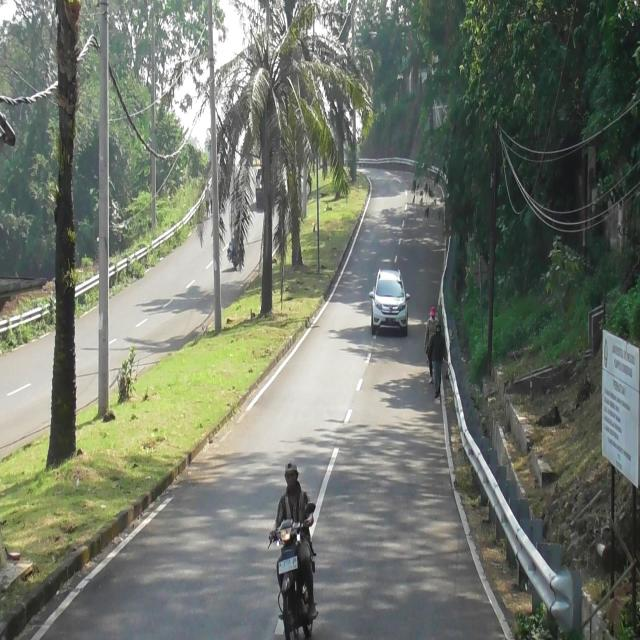motorcycle: (264, 502, 316, 639)
person: (267, 459, 319, 618)
rider_region: (267, 457, 322, 640)
